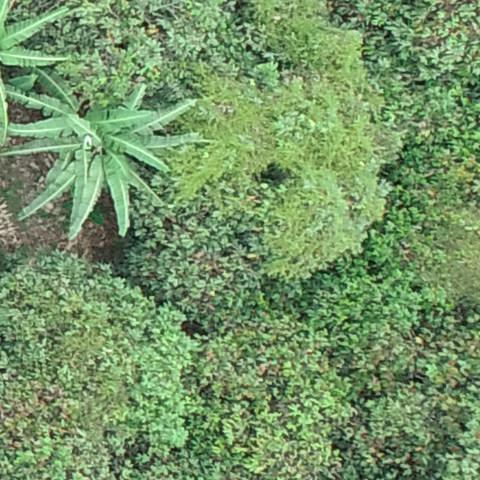Banana-plant: (8, 69, 183, 231), (20, 81, 124, 162)
